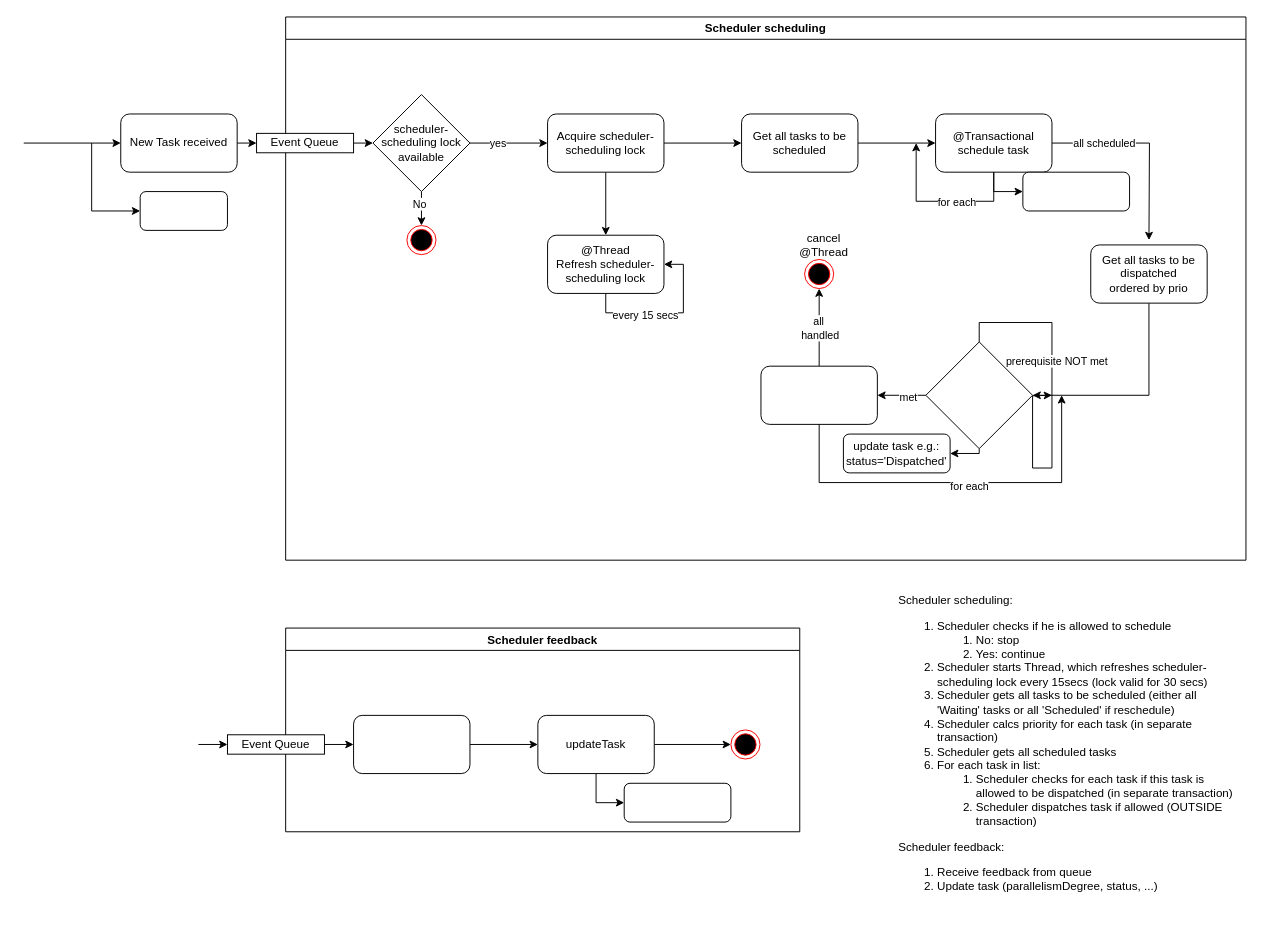
Some shapes in this 1263 by 946 pixel diagram are drawn without their labels. Here are the shapes that lost their labels. From the top down, the centre of each, then its label:
At point 183,210: "status='Waiting'".
At point 1076,191: "status='Scheduled'".
At point 818,394: "dispatchTask".
At point 979,395: "@Transactional checkTask OnDispatch".
At point 411,744: "receive feedback".
At point 677,802: "status='Finished'".
